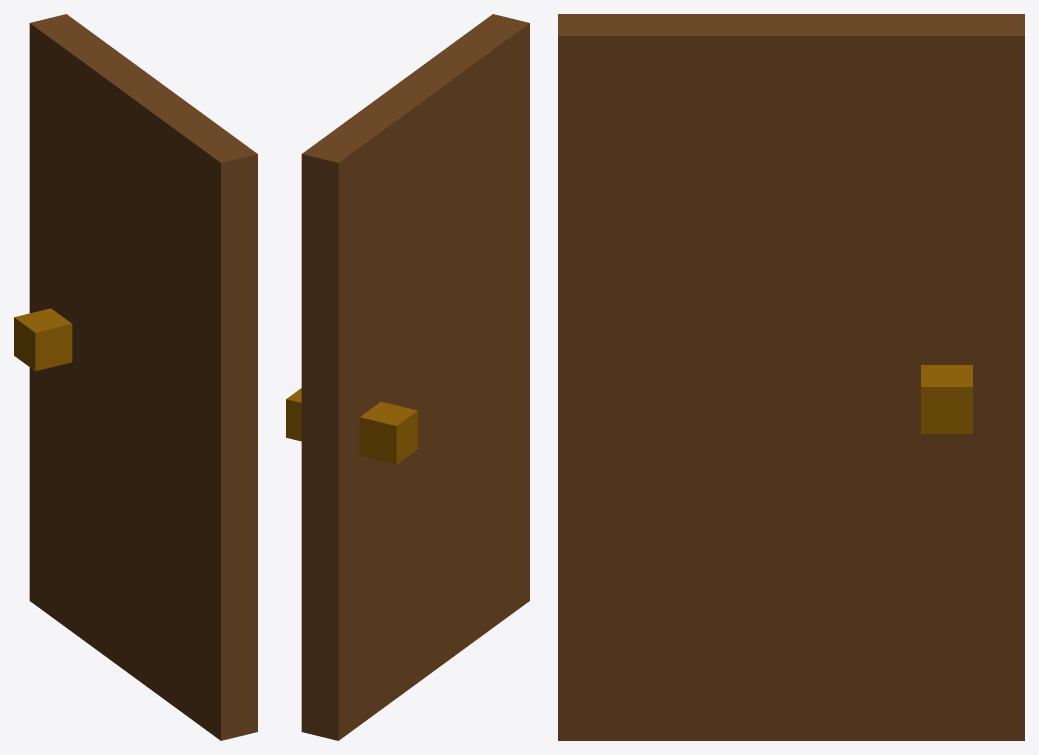
Rendered from Door B 2.obj.
The picture shows the model from 3 angles, left to right: view 1: azimuth 30°, elevation 25°; view 2: azimuth 150°, elevation 25°; view 3: azimuth 270°, elevation 25°; orthographic projection. The views are drawn at different scales.
Visible parts, largest first — view 1: Door B 2; view 2: Door B 2; view 3: Door B 2.
Boxes of the visible parts, bbox=[...] form: Door B 2: bbox=[14, 14, 257, 740]; Door B 2: bbox=[286, 14, 529, 740]; Door B 2: bbox=[558, 14, 1024, 740].
Size of the model in its own units: 3 by 15 by 9.
